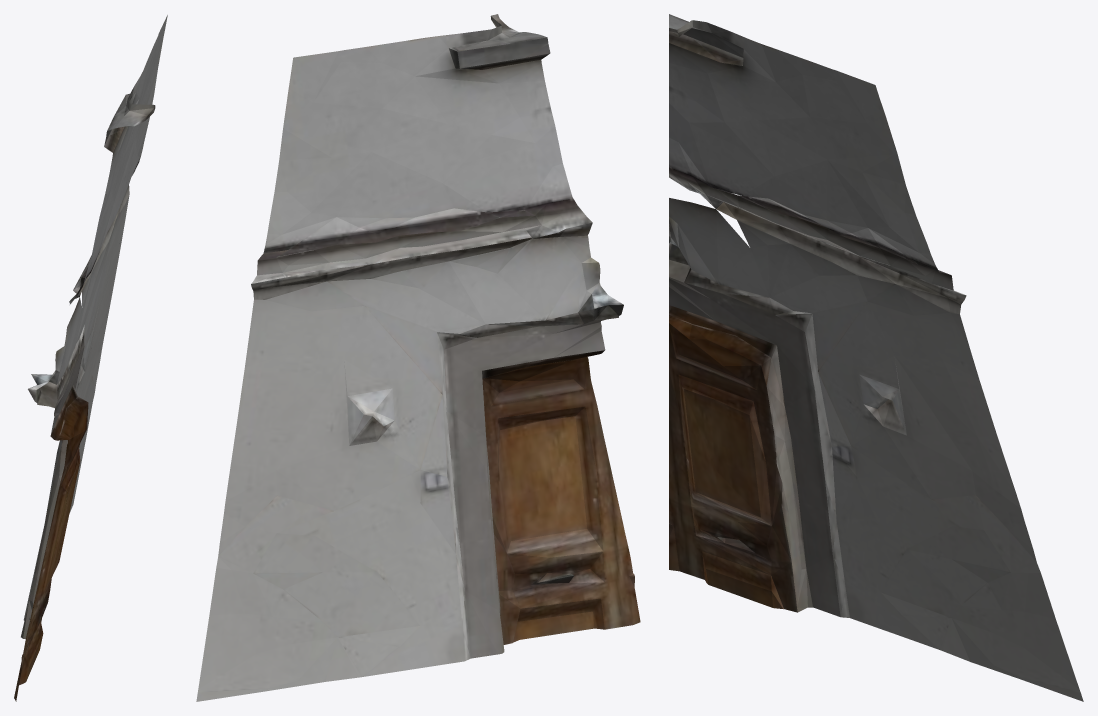
3 views of the same model, side by side, from view 1: azimuth 30°, elevation 25°; view 2: azimuth 150°, elevation 25°; view 3: azimuth 270°, elevation 25° (orthographic). The views are drawn at different scales.
Bounding box in the file's own units: 1.54 × 3.35 × 2.04.
2 materials, 2 textured.
